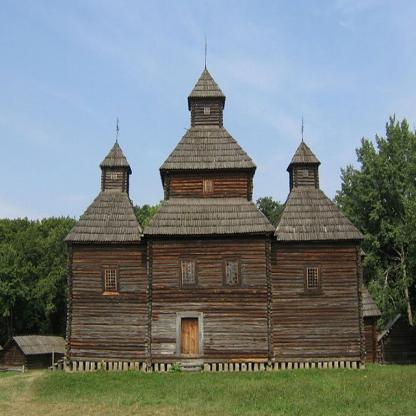Building Outline: (62, 68, 382, 369)
Door: (181, 317, 198, 354)
Facade: (68, 235, 361, 369)
Floor: (164, 171, 253, 252), (289, 163, 320, 252), (101, 167, 130, 253)
Floor Slab: (68, 245, 361, 252), (164, 164, 253, 171)
Ground Floor: (68, 252, 361, 369)
Roof: (272, 188, 365, 240), (143, 199, 276, 235), (62, 192, 144, 242), (159, 127, 258, 168), (188, 68, 226, 96), (99, 141, 130, 166), (291, 141, 320, 163)
Top Floor: (190, 96, 223, 164)
Window: (181, 260, 195, 284), (226, 260, 239, 284), (306, 267, 319, 289), (105, 270, 117, 291), (203, 178, 214, 197), (111, 171, 118, 179), (303, 169, 309, 178), (204, 108, 210, 116)
